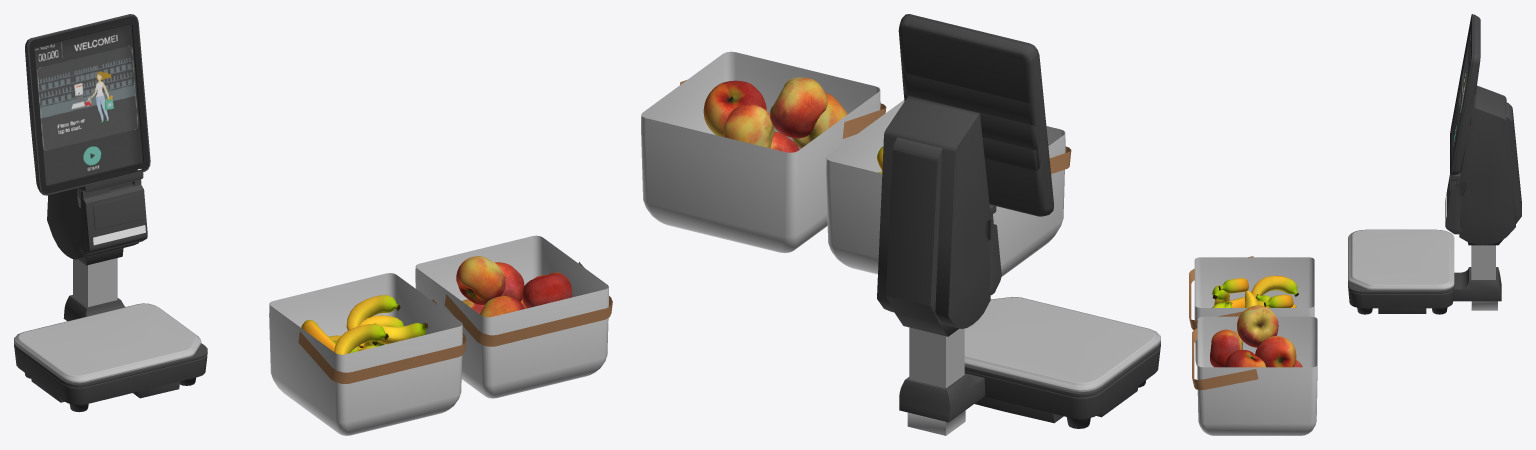
File: weighing machine.gltf
3 renders of one model, left to right at view 1: azimuth 30°, elevation 25°; view 2: azimuth 150°, elevation 25°; view 3: azimuth 270°, elevation 25°, orthographic. The views are drawn at different scales.
Parts seen in each view (by area): view 1: bananasBag, bananasBag.002, screen, Cube.008, Cube.001, display, Cube, Cube.005, bananasBag.001, bananasBag.003, Cube.004, 2v apple004 (+8 smaller); view 2: bananasBag.002, display, Cube.005, Cube.008, bananasBag, Cube.006, Cube.001, Cube.003, Cube.004, 2v apple004, 2v apple003, 2v apple007 (+3 smaller); view 3: bananasBag.002, Cube.005, Cube.008, bananasBag, Cube.001, display, Cube.003, 2v apple004, 2v apple007, Cube.006, bananasBag.003, 2v apple005 (+8 smaller).
Boxes of the visible parts, x1,y1,x2,y2 form: bananasBag: (269,273,462,435); bananasBag.002: (415,235,608,398); screen: (34,24,142,185); Cube.008: (14,303,201,383); Cube.001: (14,343,207,412); display: (25,14,150,195); Cube: (79,172,147,255); Cube.005: (47,181,138,259); bananasBag.001: (298,299,466,383); bananasBag.003: (444,262,612,346); Cube.004: (73,258,117,306); 2v apple004: (456,256,505,304); bananasBag.002: (641,51,880,253); display: (898,14,1053,216); Cube.005: (877,96,990,328); Cube.008: (964,297,1160,392); bananasBag: (826,100,1065,276); Cube.006: (886,137,959,336); Cube.001: (964,342,1160,428); Cube.003: (899,373,985,435); Cube.004: (909,327,964,388); 2v apple004: (770,77,827,138); 2v apple003: (703,80,766,136); 2v apple007: (724,104,774,148); bananasBag.002: (1197,316,1317,435); Cube.005: (1459,85,1515,244); Cube.008: (1348,229,1454,290); bananasBag: (1194,257,1314,366); Cube.001: (1348,280,1454,314); display: (1450,14,1480,175); Cube.003: (1453,267,1501,310); 2v apple004: (1237,305,1278,347); 2v apple007: (1255,336,1296,367); Cube.006: (1468,102,1521,245); bananasBag.003: (1192,328,1258,390); 2v apple005: (1210,329,1242,367).
Size of the model in its own units: 1.39 by 0.9363 by 1.08.
Materials: 22 (11 with a texture image).
